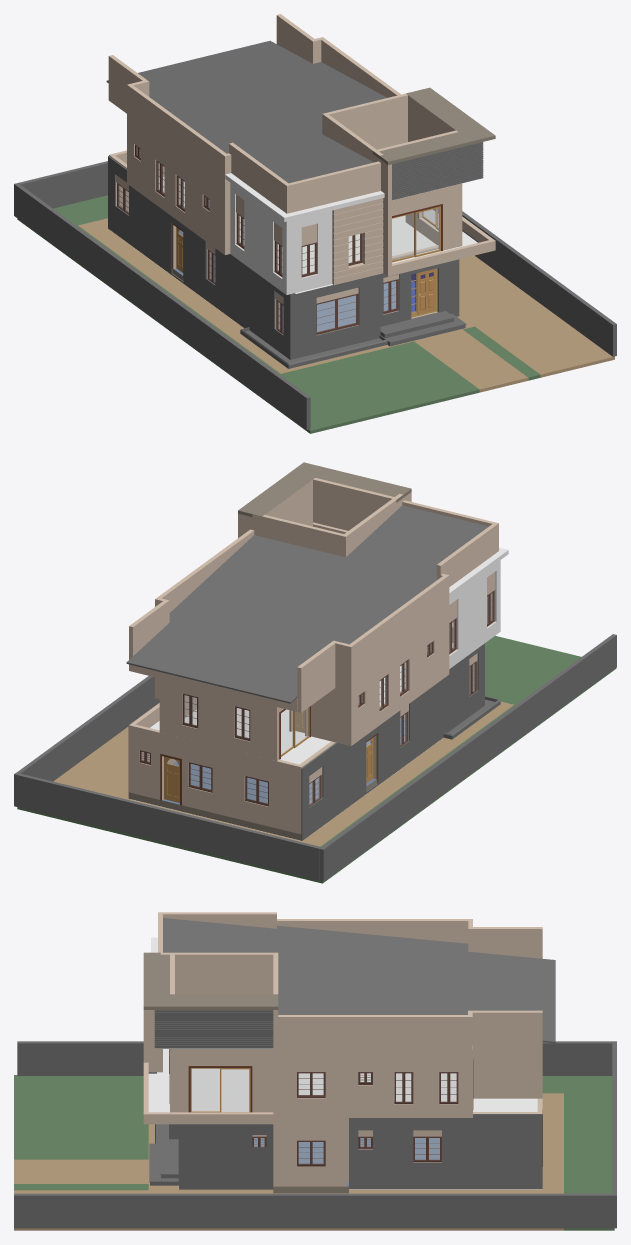
File: Genesis6.glb
3 views of the same model, one above another, from view 1: azimuth 30°, elevation 25°; view 2: azimuth 150°, elevation 25°; view 3: azimuth 270°, elevation 25° (orthographic). The views are drawn at different scales.
Visible parts, largest first — view 1: Wall Walls <324225 new block 230 mm<, FamilyInstance Casework Casework 1 <325590 Casework 1<, FootPrintRoof Roofs <324746 roof 4<, Floor Floors <51959 walkways 4 site<, Floor Floors <63109 grass floor<, FamilyInstance Windows Dbl w Glazing Bars (2) <319490 800<, FamilyInstance Doors M_Single-Decorative 2 <253878 900 x 210, Floor Floors <325042 FLR-LIVING<, Ceiling Ceilings <330324 Ceiling 2<, Floor Floors <255474 GF<, FamilyInstance Casework Casework 4 <367050 Casework 4<, FamilyInstance Casework Casework 13 <356187 Casework 41<; view 2: Wall Walls <324225 new block 230 mm<, FootPrintRoof Roofs <324746 roof 4<, FamilyInstance Casework Casework 1 <325590 Casework 1<, Floor Floors <51959 walkways 4 site<, Floor Floors <63109 grass floor<, FamilyInstance Windows Dbl w Glazing Bars (2) <319490 800<, Floor Floors <325042 FLR-LIVING<, FamilyInstance Doors M_Single-Decorative 2 <253878 900 x 210, Floor Floors <255474 GF<, Ceiling Ceilings <330324 Ceiling 2<; view 3: Wall Walls <324225 new block 230 mm<, FamilyInstance Casework Casework 1 <325590 Casework 1<, FootPrintRoof Roofs <324746 roof 4<, Floor Floors <63109 grass floor<, Floor Floors <51959 walkways 4 site<, Ceiling Ceilings <330324 Ceiling 2<, FamilyInstance Windows Dbl w Glazing Bars (2) <319490 800<, Floor Floors <325042 FLR-LIVING<, FamilyInstance Doors M_Single-Decorative 2 <253878 900 x 210, Floor Floors <255474 GF<, FamilyInstance Casework Casework 13 <356187 Casework 41<, FamilyInstance Casework Casework 14 <356296 Casework 41<.
Part boxes in pixels (x1,y1,x2,y2): Wall Walls <324225 new block 230 mm<: (14, 14, 616, 429); FamilyInstance Casework Casework 1 <325590 Casework 1<: (108, 142, 483, 359); FootPrintRoof Roofs <324746 roof 4<: (106, 40, 387, 183); Floor Floors <51959 walkways 4 site<: (78, 218, 614, 392); Floor Floors <63109 grass floor<: (17, 195, 540, 433); FamilyInstance Windows Dbl w Glazing Bars (2) <319490 800<: (117, 145, 398, 334); FamilyInstance Doors M_Single-Decorative 2 <253878 900 x 210: (172, 204, 442, 317); Floor Floors <325042 FLR-LIVING<: (372, 87, 495, 164); Ceiling Ceilings <330324 Ceiling 2<: (159, 177, 477, 293); Floor Floors <255474 GF<: (172, 230, 415, 331); FamilyInstance Casework Casework 4 <367050 Casework 4<: (240, 327, 387, 368); FamilyInstance Casework Casework 13 <356187 Casework 41<: (380, 311, 454, 334); Wall Walls <324225 new block 230 mm<: (14, 478, 616, 881); FootPrintRoof Roofs <324746 roof 4<: (126, 505, 488, 703); FamilyInstance Casework Casework 1 <325590 Casework 1<: (128, 547, 508, 840); Floor Floors <51959 walkways 4 site<: (53, 701, 513, 846); Floor Floors <63109 grass floor<: (17, 635, 616, 883); FamilyInstance Windows Dbl w Glazing Bars (2) <319490 800<: (139, 591, 494, 806); Floor Floors <325042 FLR-LIVING<: (238, 462, 411, 516); FamilyInstance Doors M_Single-Decorative 2 <253878 900 x 210: (160, 706, 377, 805); Floor Floors <255474 GF<: (129, 715, 404, 840); Ceiling Ceilings <330324 Ceiling 2<: (150, 623, 453, 764); Wall Walls <324225 new block 230 mm<: (14, 912, 616, 1228); FamilyInstance Casework Casework 1 <325590 Casework 1<: (151, 937, 542, 1189); FootPrintRoof Roofs <324746 roof 4<: (163, 918, 555, 1043); Floor Floors <63109 grass floor<: (14, 1075, 614, 1230); Floor Floors <51959 walkways 4 site<: (14, 1093, 563, 1230); Ceiling Ceilings <330324 Ceiling 2<: (148, 1048, 537, 1112); FamilyInstance Windows Dbl w Glazing Bars (2) <319490 800<: (252, 1072, 458, 1166); Floor Floors <325042 FLR-LIVING<: (143, 952, 278, 1009); FamilyInstance Doors M_Single-Decorative 2 <253878 900 x 210: (169, 1049, 542, 1166); Floor Floors <255474 GF<: (254, 1138, 439, 1193); FamilyInstance Casework Casework 13 <356187 Casework 41<: (160, 1139, 178, 1174); FamilyInstance Casework Casework 14 <356296 Casework 41<: (149, 1143, 178, 1182).
Size of the model in its own units: 15.2 by 9.17 by 25.1.
